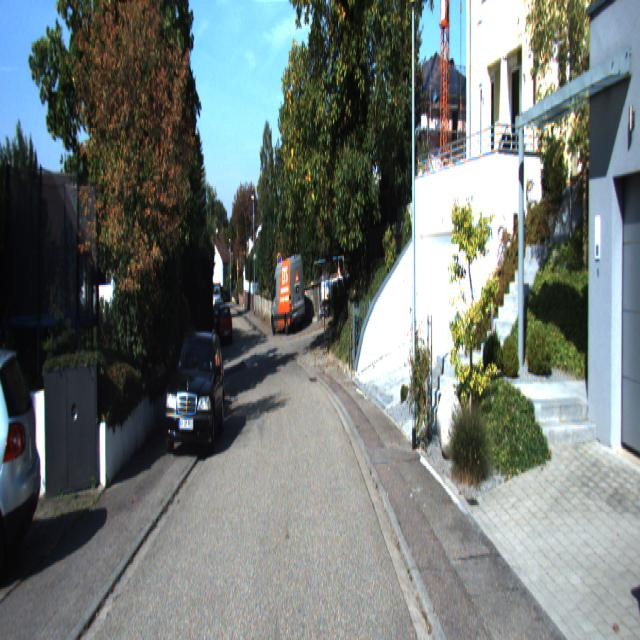Car: (163, 324, 227, 456), (270, 255, 307, 336)
